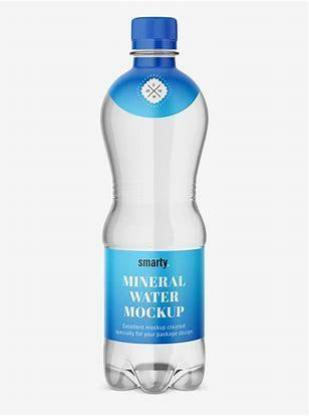Plastic Bottle: (102, 17, 208, 393)
